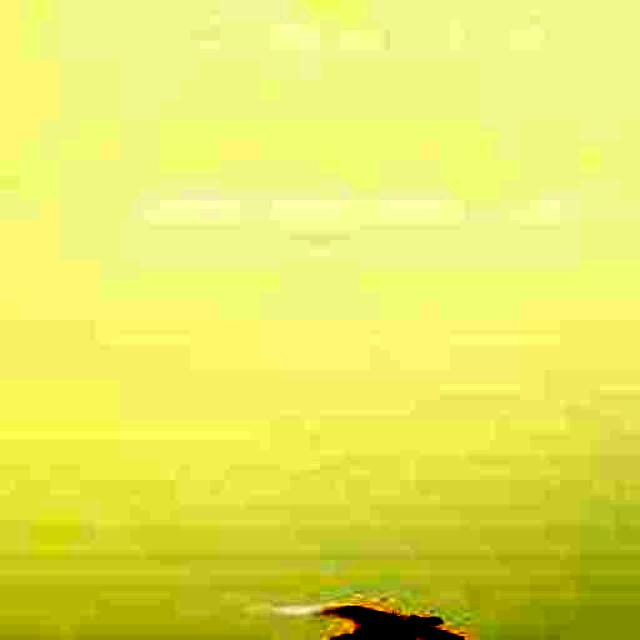airplane: (275, 605, 509, 640)
